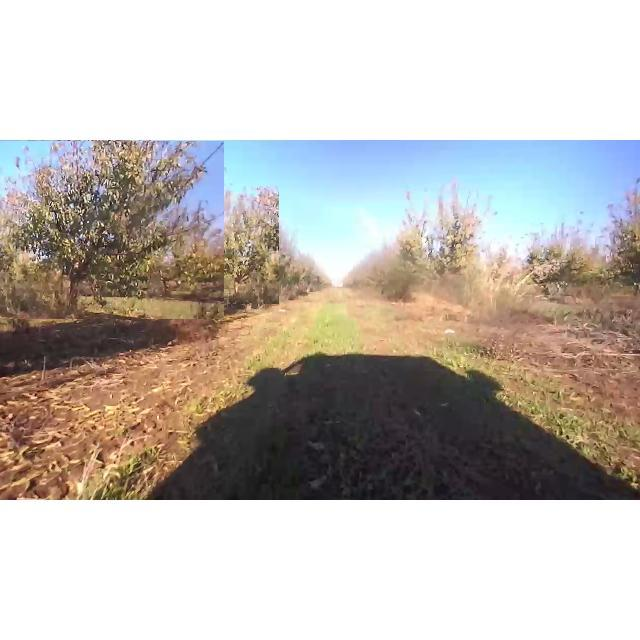direk: (0, 141, 224, 319), (394, 165, 508, 298), (197, 186, 279, 304), (256, 221, 300, 291)
